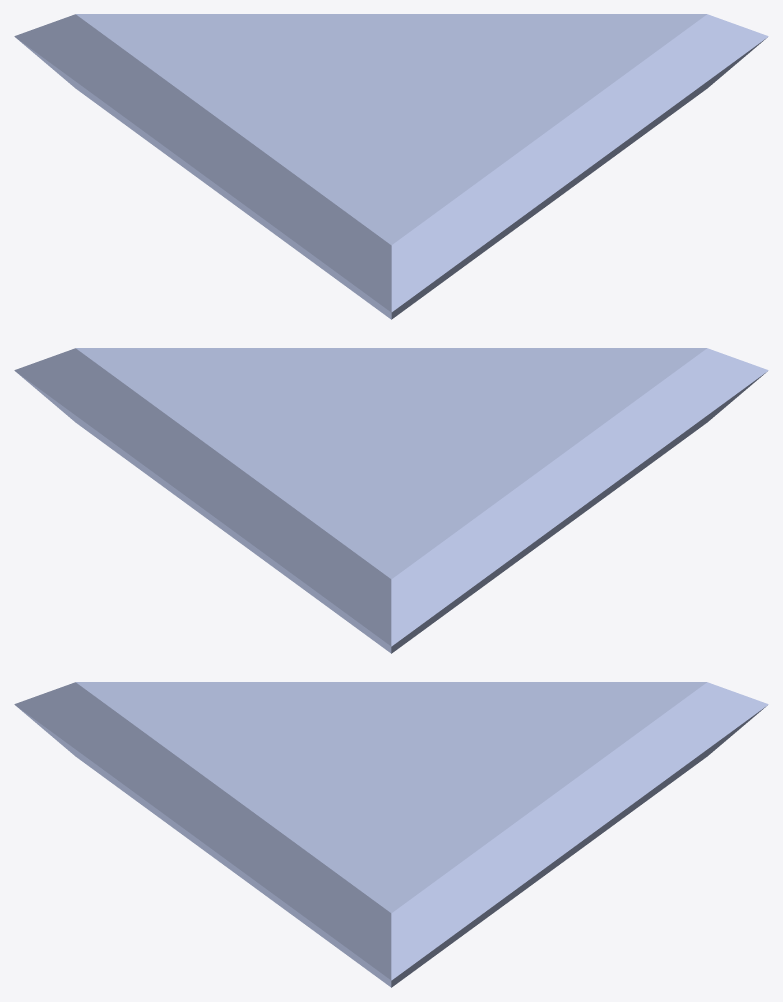
Rendered from AlloCollar.fbx.
The picture shows the model from 3 angles, top to bottom: view 1: azimuth 30°, elevation 25°; view 2: azimuth 150°, elevation 25°; view 3: azimuth 270°, elevation 25°; orthographic projection.
Visible parts, largest first — view 1: Torus.002; view 2: Torus.002; view 3: Torus.002.
Boxes of the visible parts, left/top/right/bottom form: Torus.002: left=14, top=14, right=768, bottom=319; Torus.002: left=14, top=348, right=768, bottom=653; Torus.002: left=14, top=682, right=768, bottom=987.
Size of the model in its own units: 496 by 62.35 by 573.
